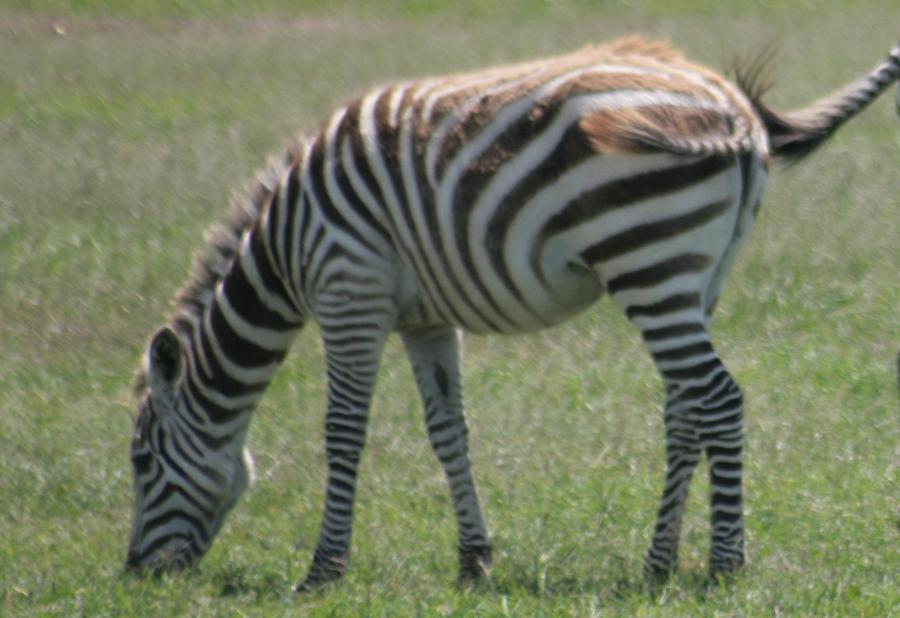zebra_plains: (261, 82, 753, 359)
